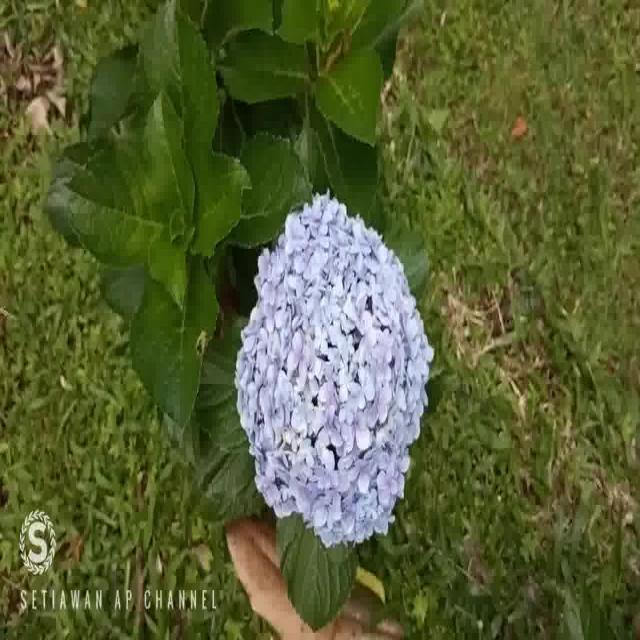Flower: (225, 192, 434, 542)
